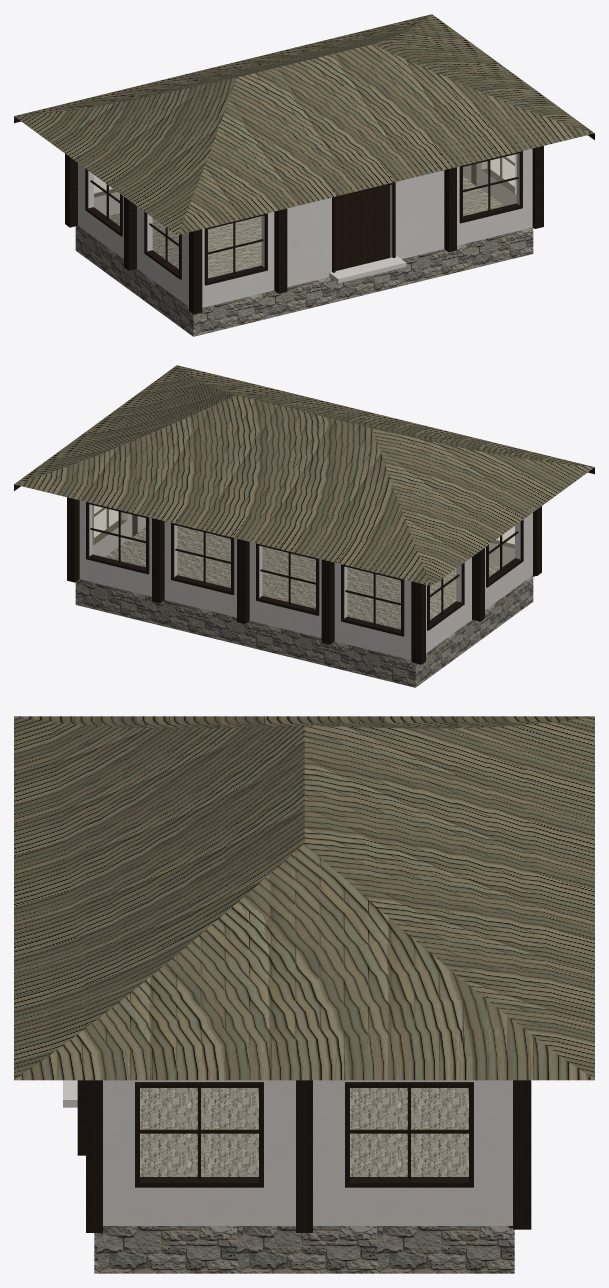
The model's file is hanok_01.glb.
3 renders of one model, top to bottom at view 1: azimuth 30°, elevation 25°; view 2: azimuth 150°, elevation 25°; view 3: azimuth 270°, elevation 25°, orthographic. The views are drawn at different scales.
Visible parts, largest first — view 1: hanok_01; view 2: hanok_01; view 3: hanok_01.
Boxes of the visible parts, x1,y1,x2,y2 form: hanok_01: (14, 14, 594, 336); hanok_01: (14, 365, 594, 687); hanok_01: (14, 716, 594, 1273).
Bounding box in the file's own units: 12.3 × 5.38 × 8.3.
6 materials, 5 textured.
